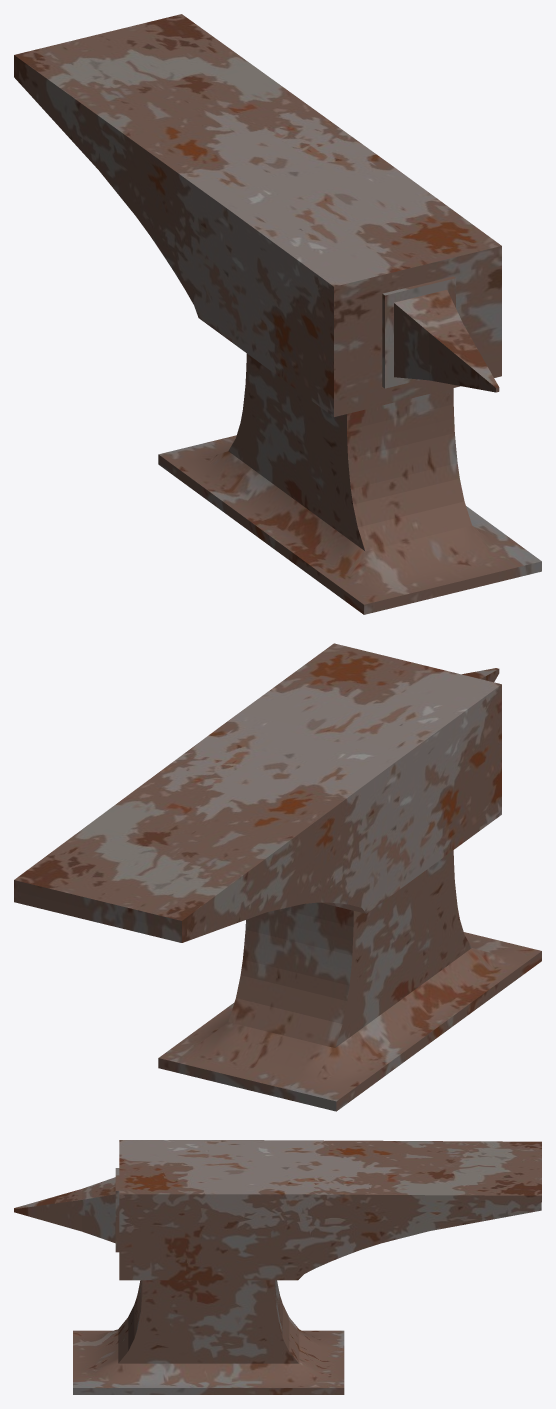
The model's file is Yunque.fbx.
The picture shows the model from 3 angles, top to bottom: view 1: azimuth 30°, elevation 25°; view 2: azimuth 150°, elevation 25°; view 3: azimuth 270°, elevation 25°; orthographic projection. The views are drawn at different scales.
Parts seen in each view (by area): view 1: Box001; view 2: Box001; view 3: Box001.
Boxes of the visible parts, left/top/right/bottom form: Box001: left=14, top=14, right=541, bottom=614; Box001: left=14, top=643, right=541, bottom=1111; Box001: left=14, top=1140, right=541, bottom=1394.
Bounding box in the file's own units: 0.508 × 0.8216 × 1.98.
Materials: 1 (1 with a texture image).
